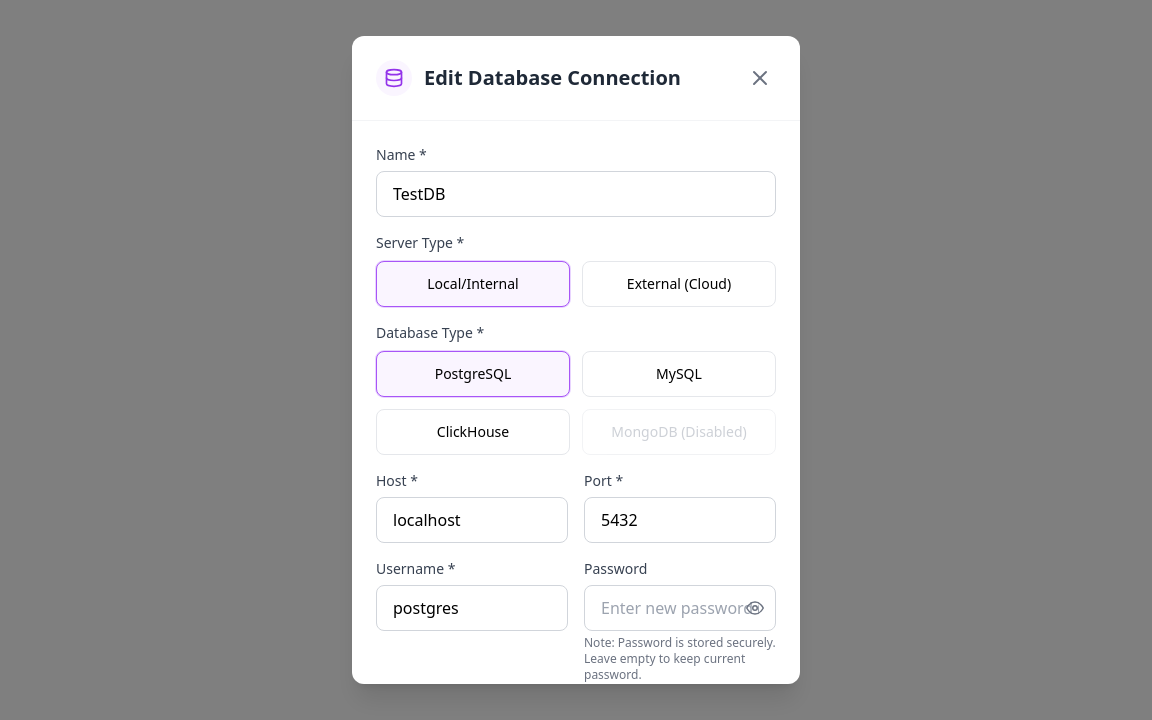
Test: EditDatabase › shows validation error for short name and port number
The image size is (1152, 720).
Replace the text in the 1st field showing "TestDB" with "ab" at coordinates (576, 194), box [376,171,776,217]
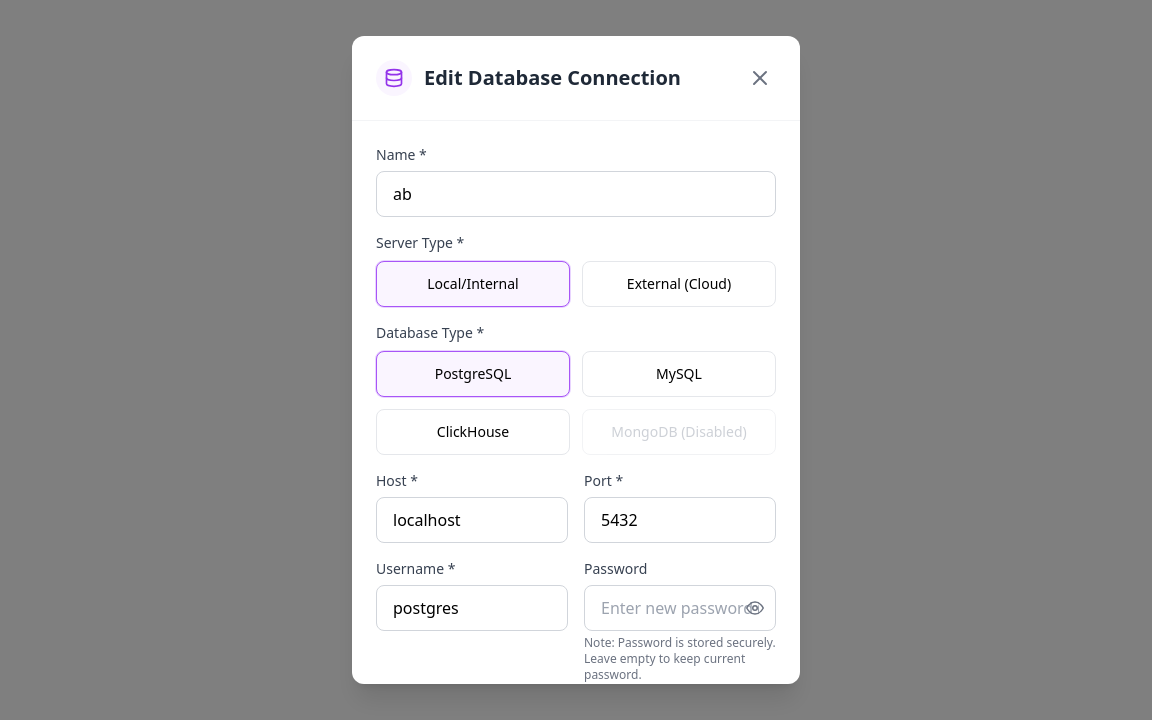
Replace the text in the field showing "5432" below "Port *" with "abc" at coordinates (680, 520), box [584,497,776,543]
(page scrolled)
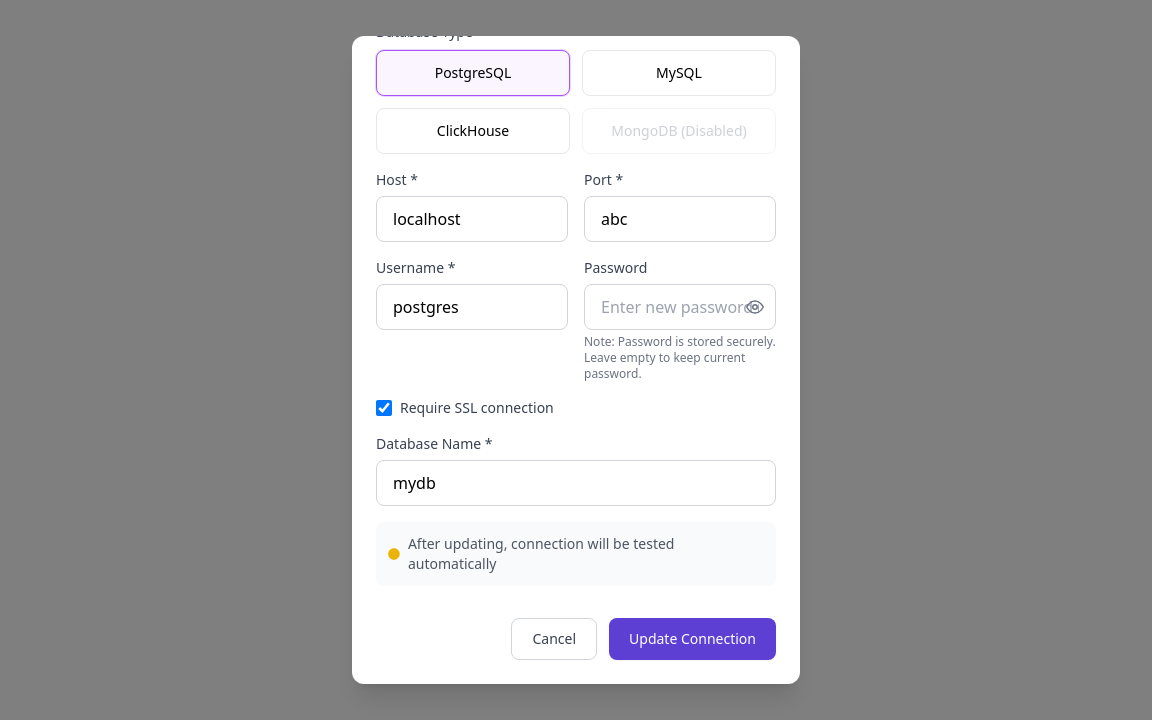
Click the button "Update Connection" at coordinates (693, 639), box [609,618,776,660]
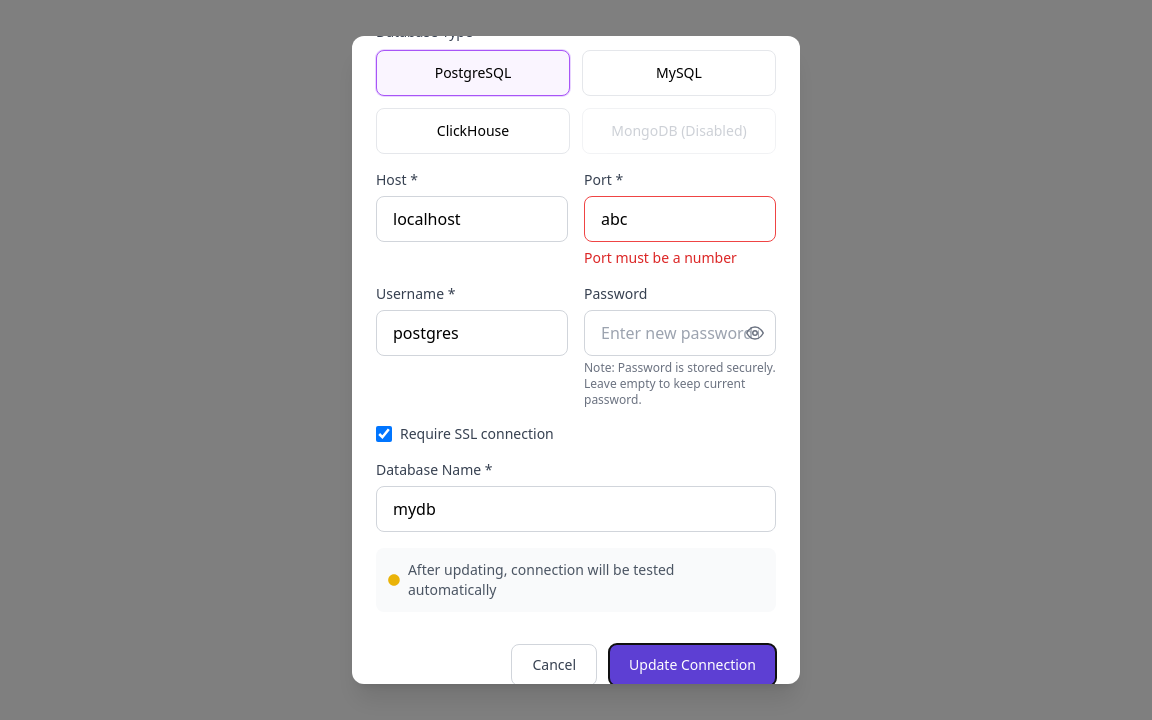
Result: the text "Port must be a number" is shown at [584,248,737,267]
